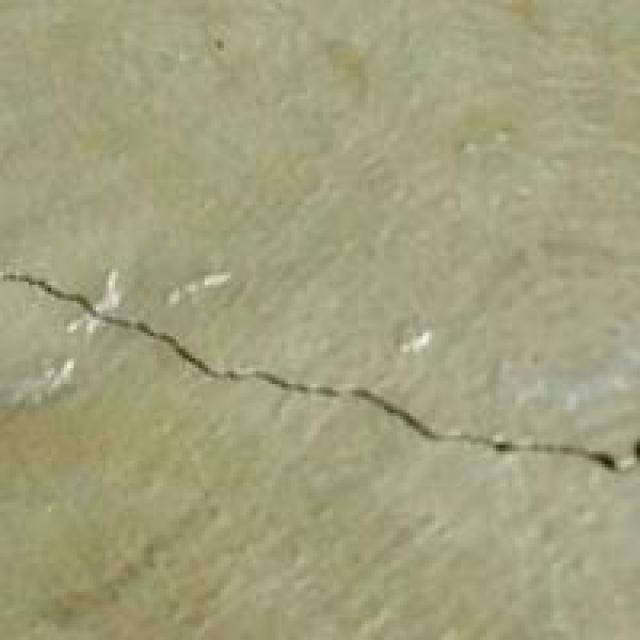crack: (6, 237, 637, 496)
